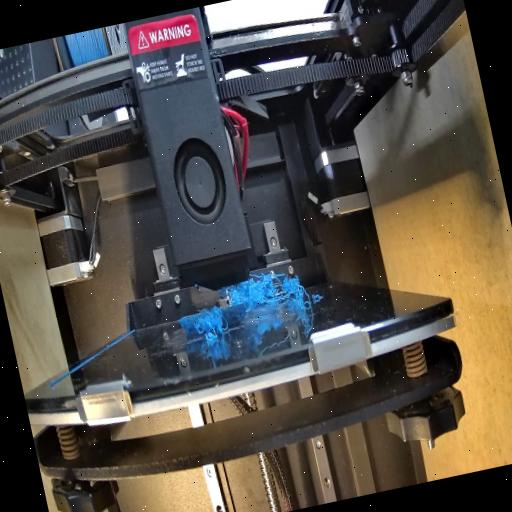spaghetti: (218, 268, 292, 314), (192, 302, 232, 340), (284, 270, 311, 312)
